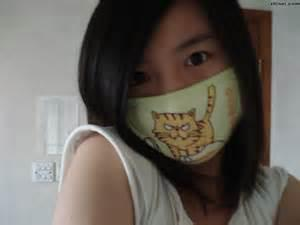OK: (124, 29, 240, 164)
